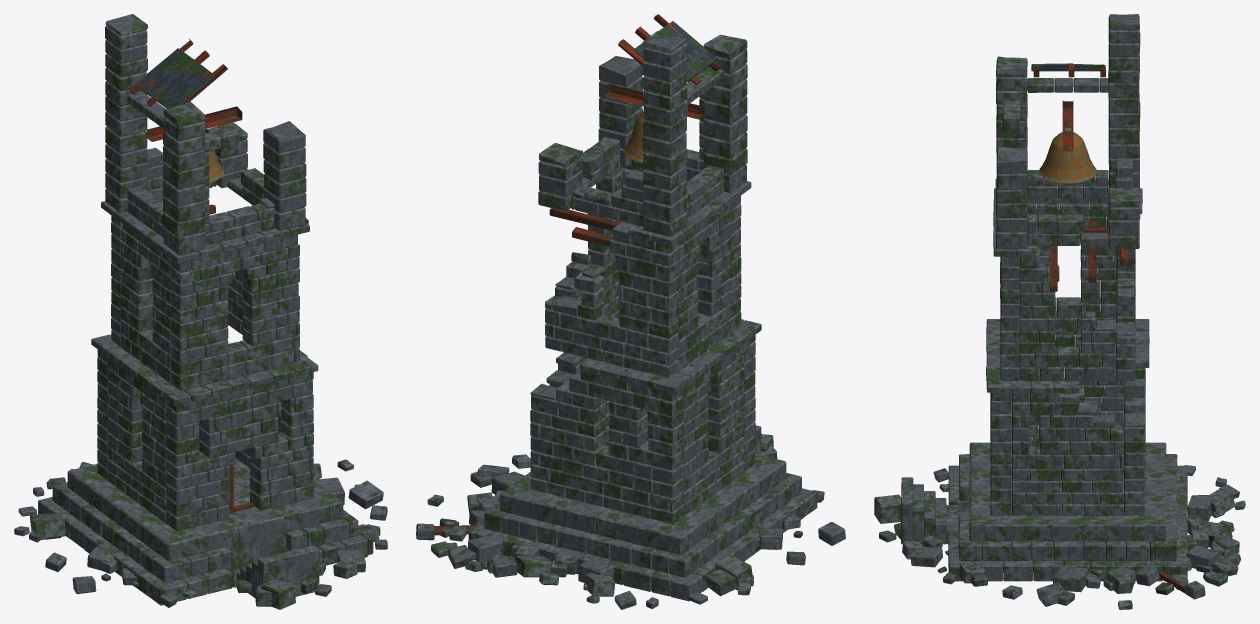
The model's file is Bell_Tower_Ruined.glb.
3 views of the same model, side by side, from view 1: azimuth 30°, elevation 25°; view 2: azimuth 150°, elevation 25°; view 3: azimuth 270°, elevation 25° (orthographic). The views are drawn at different scales.
Visible parts, largest first — view 1: Bell_Tower_Ruined__Stone_A, Bell_Tower_Ruined__Stone_B, Bell_Tower_Ruined__Stone_Belfry, Bell_Tower_Ruined__Stone_Base, Bell_Tower_Ruined__Rubble, Bell_Tower_Ruined__Roof, Bell_Tower_Ruined__Timber; view 2: Bell_Tower_Ruined__Stone_A, Bell_Tower_Ruined__Stone_Belfry, Bell_Tower_Ruined__Stone_B, Bell_Tower_Ruined__Stone_Base, Bell_Tower_Ruined__Rubble, Bell_Tower_Ruined__Timber, Bell_Tower_Ruined__Roof, Bell_Tower_Ruined__Bronze; view 3: Bell_Tower_Ruined__Stone_A, Bell_Tower_Ruined__Stone_Base, Bell_Tower_Ruined__Stone_Belfry, Bell_Tower_Ruined__Stone_B, Bell_Tower_Ruined__Rubble, Bell_Tower_Ruined__Timber, Bell_Tower_Ruined__Bronze, Bell_Tower_Ruined__Roof.
Part boxes in pixels (left/top/right/bottom): Bell_Tower_Ruined__Stone_A: left=91, top=334, right=318, bottom=530; Bell_Tower_Ruined__Stone_B: left=101, top=199, right=309, bottom=390; Bell_Tower_Ruined__Stone_Belfry: left=105, top=14, right=306, bottom=254; Bell_Tower_Ruined__Stone_Base: left=38, top=458, right=373, bottom=605; Bell_Tower_Ruined__Rubble: left=14, top=459, right=387, bottom=609; Bell_Tower_Ruined__Roof: left=134, top=48, right=215, bottom=108; Bell_Tower_Ruined__Timber: left=129, top=39, right=308, bottom=513; Bell_Tower_Ruined__Stone_A: left=530, top=309, right=761, bottom=524; Bell_Tower_Ruined__Stone_Belfry: left=538, top=31, right=747, bottom=237; Bell_Tower_Ruined__Stone_B: left=545, top=164, right=751, bottom=377; Bell_Tower_Ruined__Stone_Base: left=468, top=425, right=817, bottom=601; Bell_Tower_Ruined__Rubble: left=416, top=434, right=845, bottom=609; Bell_Tower_Ruined__Timber: left=434, top=14, right=720, bottom=535; Bell_Tower_Ruined__Roof: left=634, top=21, right=717, bottom=81; Bell_Tower_Ruined__Bronze: left=623, top=111, right=644, bottom=162; Bell_Tower_Ruined__Stone_A: left=986, top=319, right=1149, bottom=515; Bell_Tower_Ruined__Stone_Base: left=901, top=442, right=1187, bottom=581; Bell_Tower_Ruined__Stone_Belfry: left=995, top=14, right=1140, bottom=248; Bell_Tower_Ruined__Stone_B: left=993, top=188, right=1142, bottom=381; Bell_Tower_Ruined__Rubble: left=874, top=465, right=1245, bottom=609; Bell_Tower_Ruined__Timber: left=1033, top=64, right=1186, bottom=593; Bell_Tower_Ruined__Bronze: left=1039, top=126, right=1096, bottom=183; Bell_Tower_Ruined__Roof: left=1031, top=63, right=1100, bottom=71.
Size of the model in its own units: 53.79 by 76.68 by 52.9.
4 materials, 4 textured.
